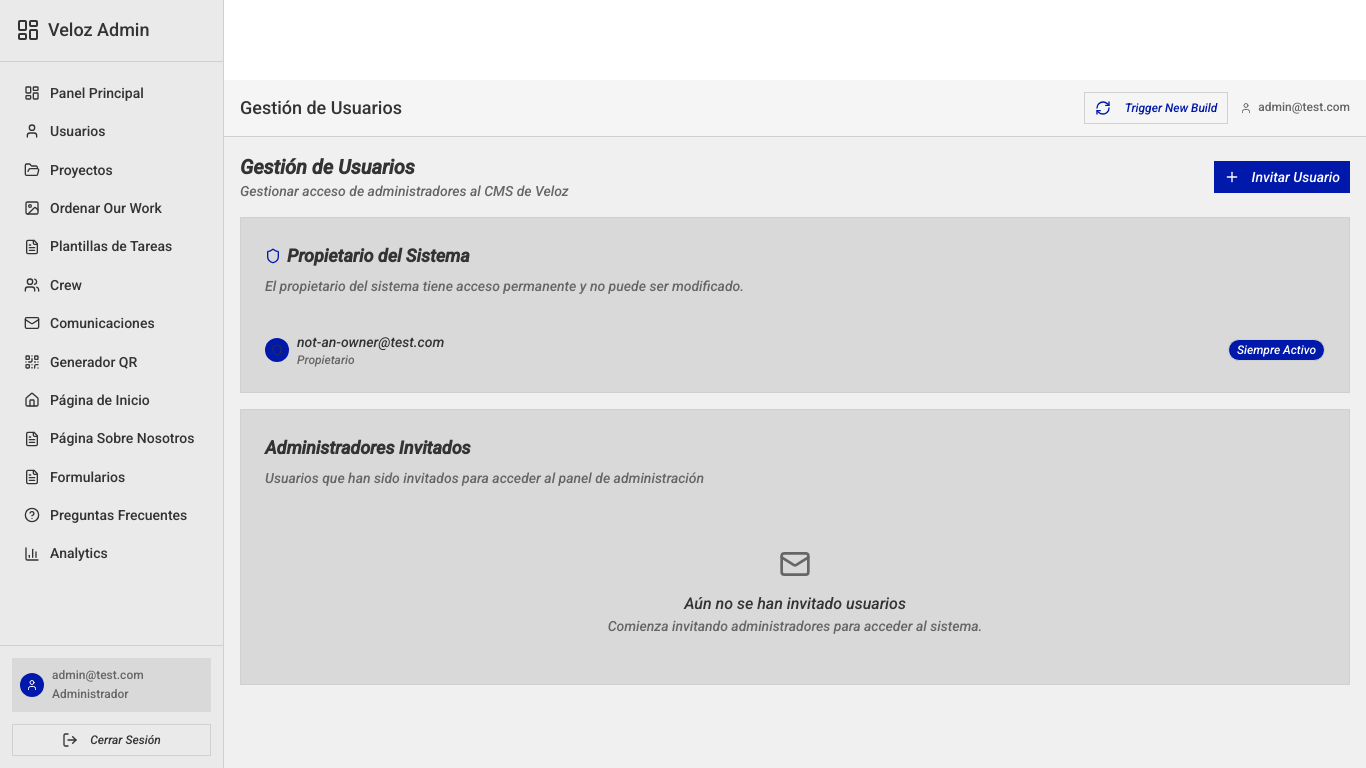
Test: UsersPage › User Invitation › should validate email format
// Open invite dialog
Click the button "Invitar Usuario".
click(1282, 177)  # box [1214,161,1350,193]
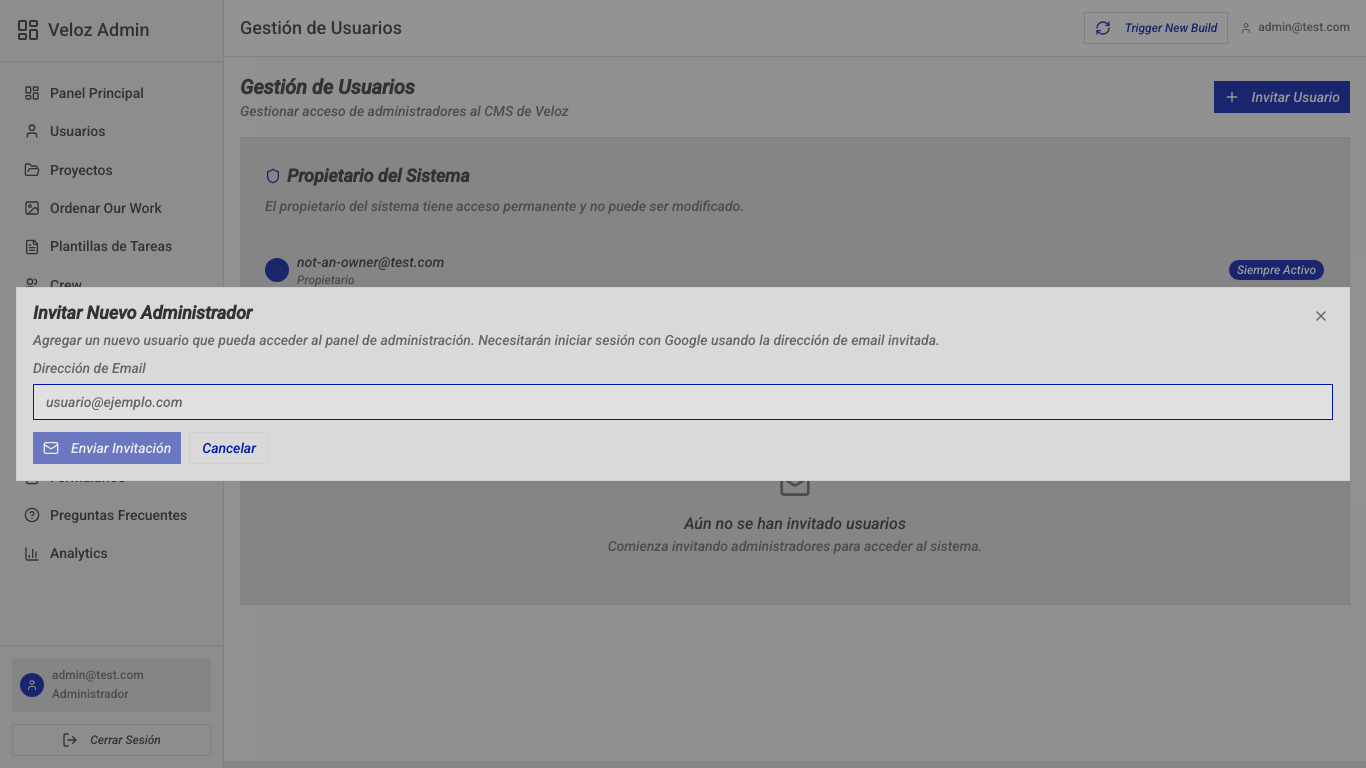
Result: the heading "Invitar Nuevo Administrador" is shown at [33,302,252,323]
// Enter invalid email
Type "invalid-email" into the field with placeholder "usuario@ejemplo.com".
click(683, 402); type("invalid-email")  # box [33,384,1333,420]
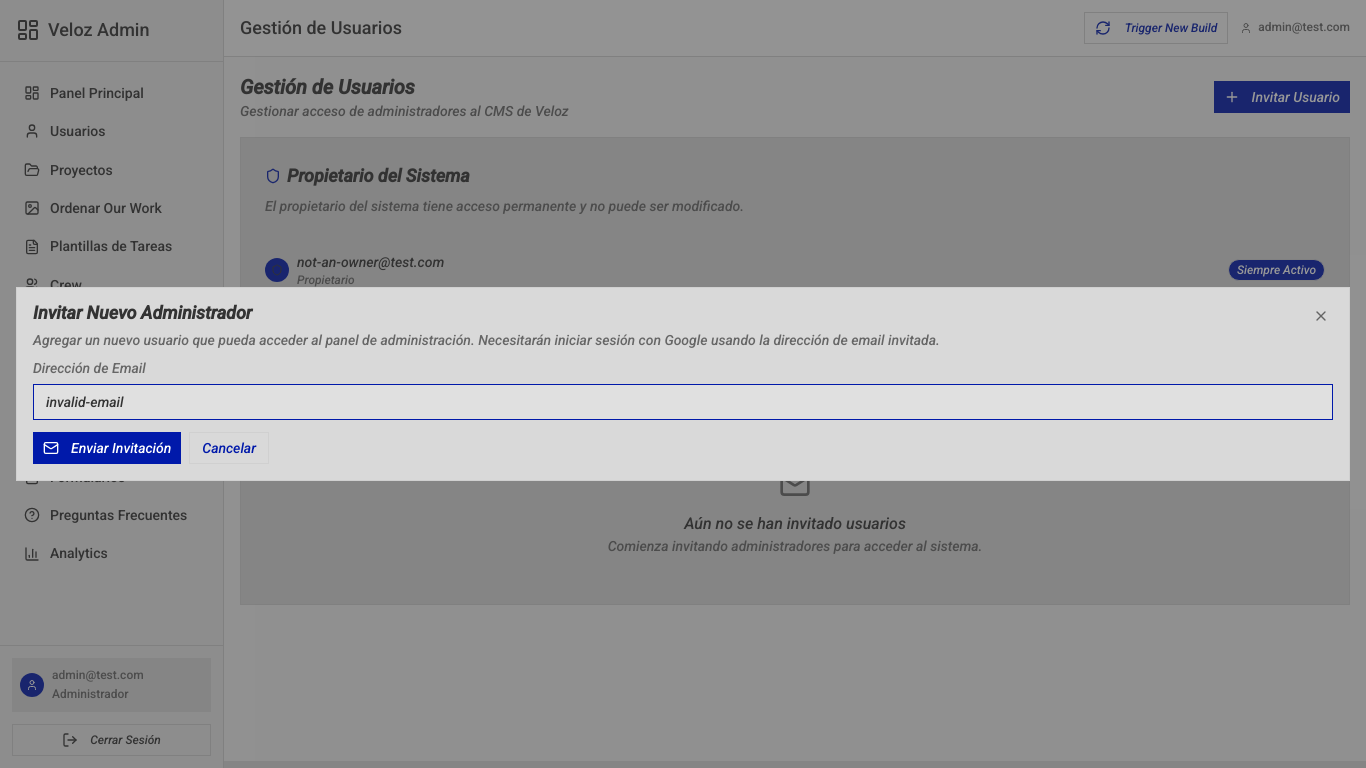
Result: the form with placeholder "usuario@ejemplo.com" is shown
Submit the form with placeholder "usuario@ejemplo.com", box [33,358,1333,464]
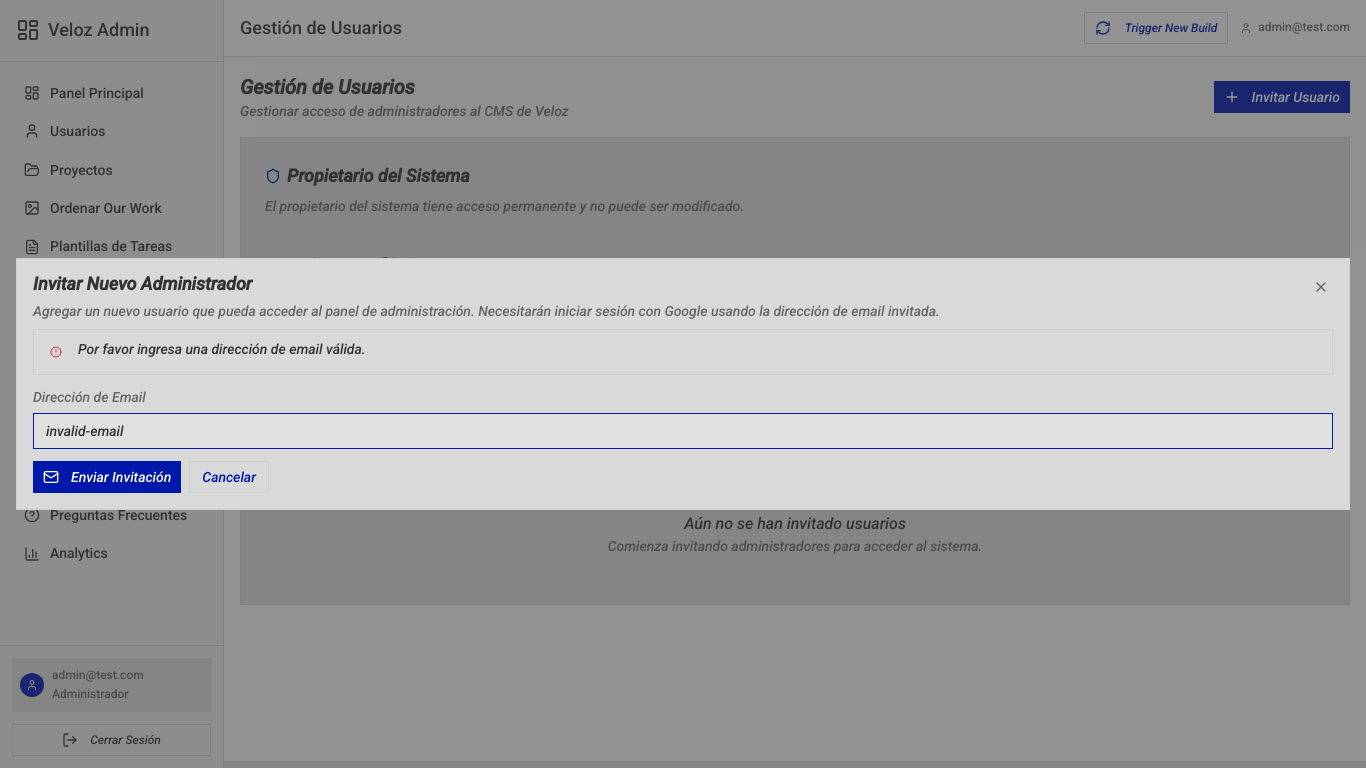
Result: the text "Por favor ingresa una dirección de email válida." is shown at [78,341,366,357]
